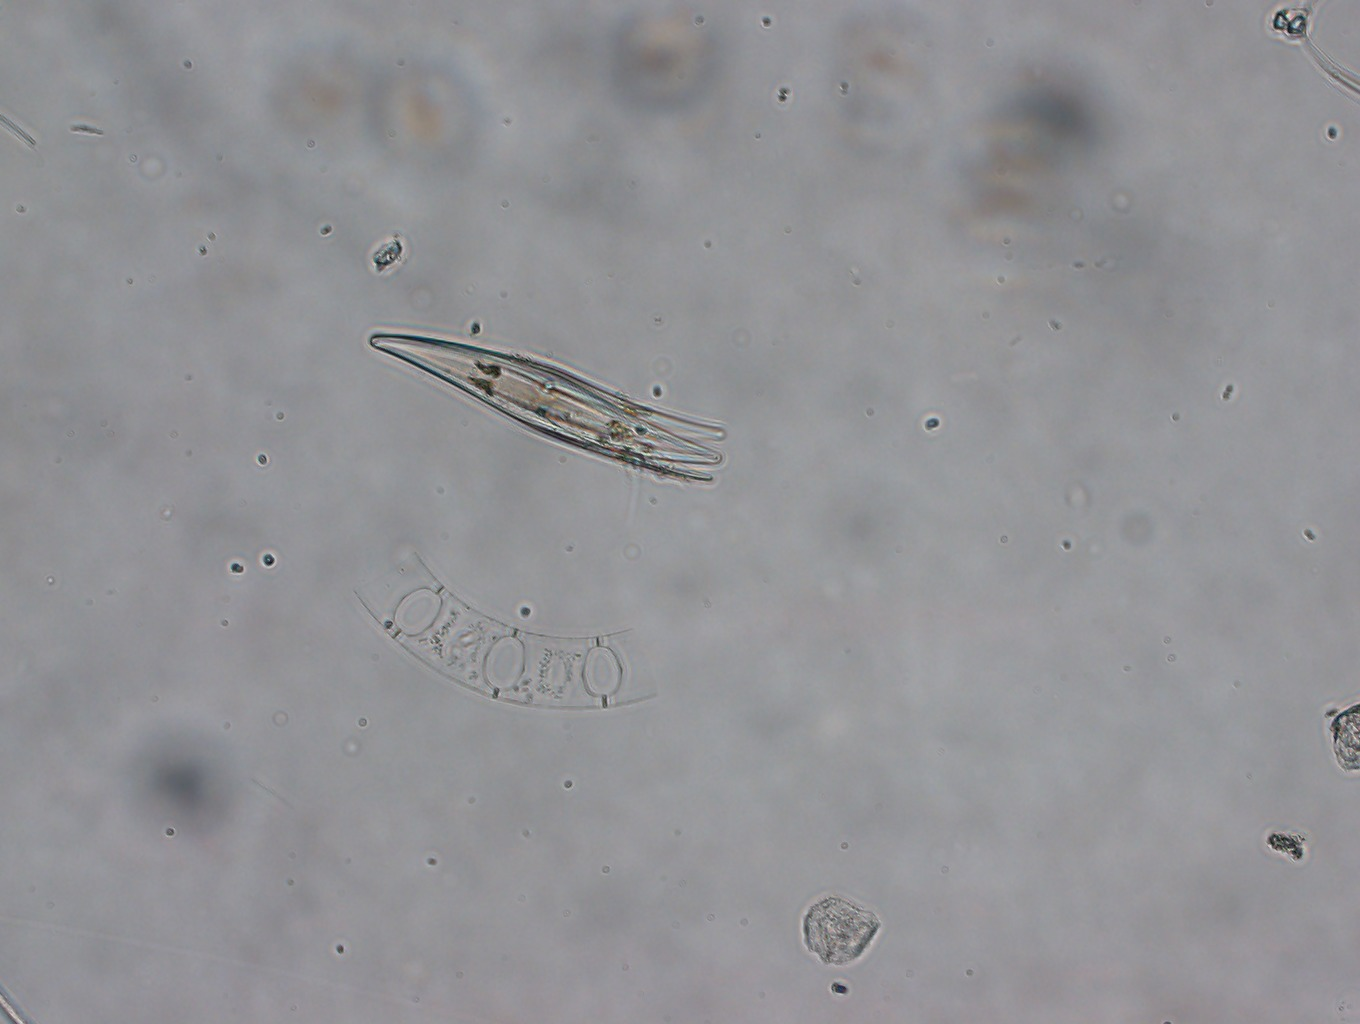eucampia: (353, 553, 653, 711)
pleurosigma pelagicum: (368, 333, 725, 484)
